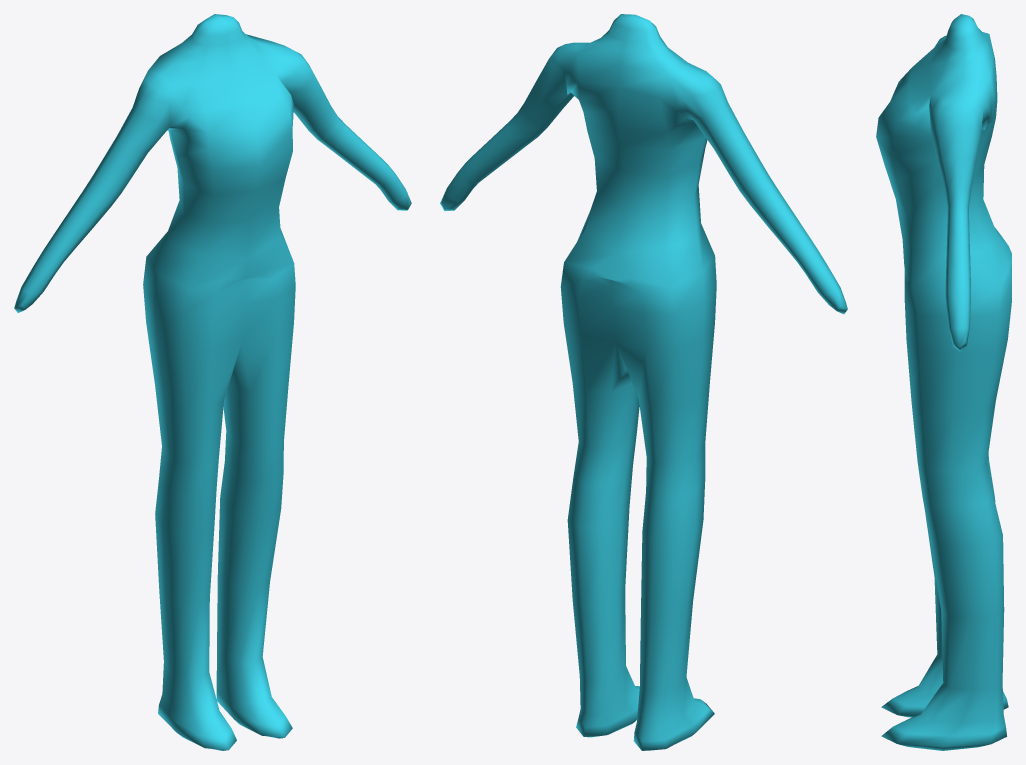
File: main female body.FBX
The picture shows the model from 3 angles, left to right: view 1: azimuth 30°, elevation 25°; view 2: azimuth 150°, elevation 25°; view 3: azimuth 270°, elevation 25°; orthographic projection. The views are drawn at different scales.
Visible parts, largest first — view 1: Box001; view 2: Box001; view 3: Box001.
Boxes of the visible parts, x1,y1,x2,y2 form: Box001: (14, 14, 411, 750); Box001: (440, 14, 847, 750); Box001: (876, 14, 1011, 750).
Bounding box in the file's own units: 21.71 × 36.74 × 6.34.
